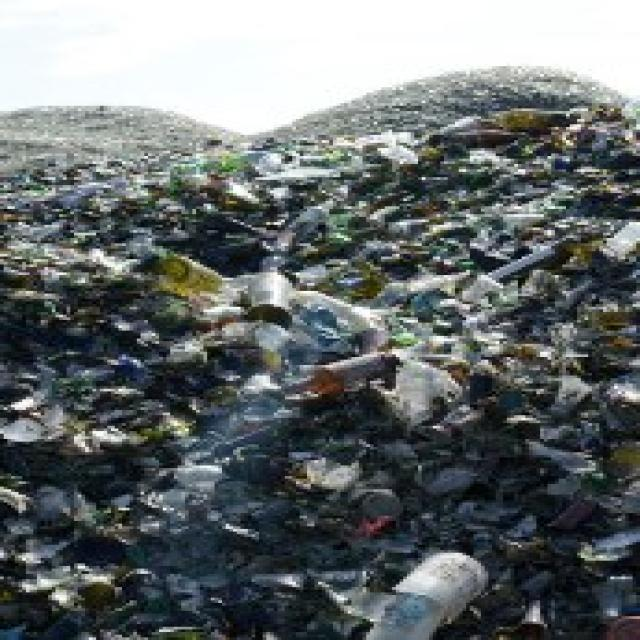electronic: (134, 251, 404, 418), (343, 549, 508, 640)
